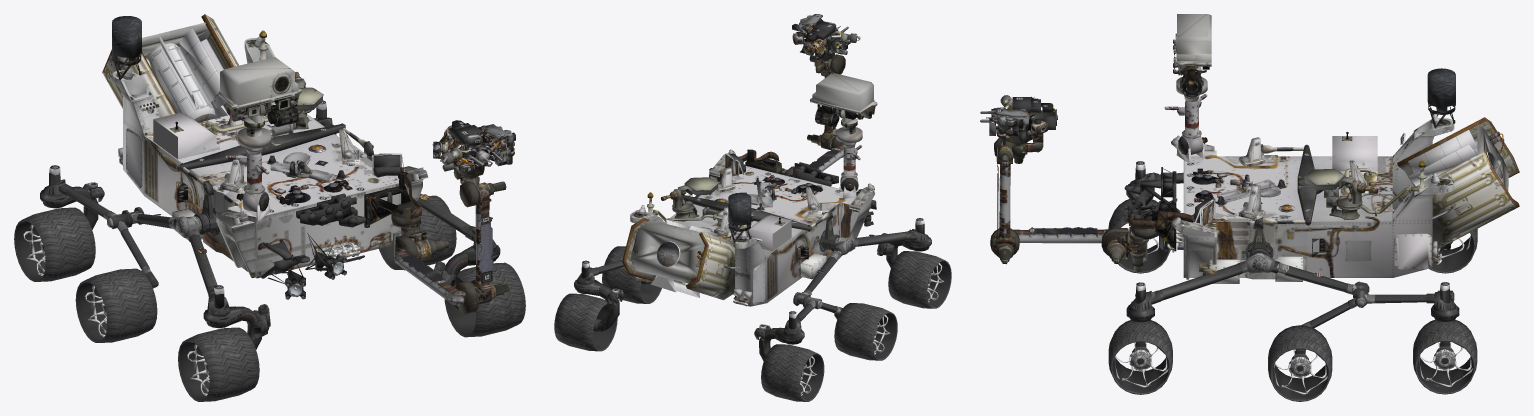
File: MarsCuriosityRover.FBX
3 renders of one model, left to right at view 1: azimuth 30°, elevation 25°; view 2: azimuth 150°, elevation 25°; view 3: azimuth 270°, elevation 25°, orthographic. The views are drawn at different scales.
Visible parts, largest first — view 1: node_id37, node_id47, node_id33, node_id35, node_id39, node_id43, node_id31, node_id45, node_id41; view 2: node_id47, node_id37, node_id39, node_id33, node_id35, node_id43, node_id31, node_id45, node_id41; view 3: node_id37, node_id33, node_id35, node_id47, node_id39, node_id43, node_id31, node_id45.
Boxes of the visible parts, x1,y1,x2,y2 form: node_id37: [73, 16, 467, 349]; node_id47: [14, 195, 525, 401]; node_id33: [40, 14, 509, 328]; node_id35: [113, 38, 492, 305]; node_id39: [142, 22, 515, 302]; node_id43: [122, 155, 400, 299]; node_id31: [152, 122, 504, 283]; node_id45: [194, 155, 372, 235]; node_id41: [153, 119, 177, 159]; node_id47: [554, 246, 951, 401]; node_id37: [597, 149, 902, 361]; node_id39: [630, 14, 877, 283]; node_id33: [574, 44, 931, 344]; node_id35: [632, 49, 873, 255]; node_id43: [729, 153, 876, 303]; node_id31: [696, 14, 875, 274]; node_id45: [819, 219, 839, 252]; node_id41: [772, 220, 791, 250]; node_id37: [1125, 68, 1455, 351]; node_id33: [986, 115, 1519, 328]; node_id35: [993, 119, 1453, 259]; node_id47: [1108, 199, 1477, 401]; node_id39: [980, 14, 1508, 251]; node_id43: [1124, 167, 1433, 263]; node_id31: [996, 97, 1321, 276]; node_id45: [1245, 229, 1272, 258].
Bounding box in the file's own units: 5.12 × 4.07 × 7.37.
Materials: 10 (8 with a texture image).
